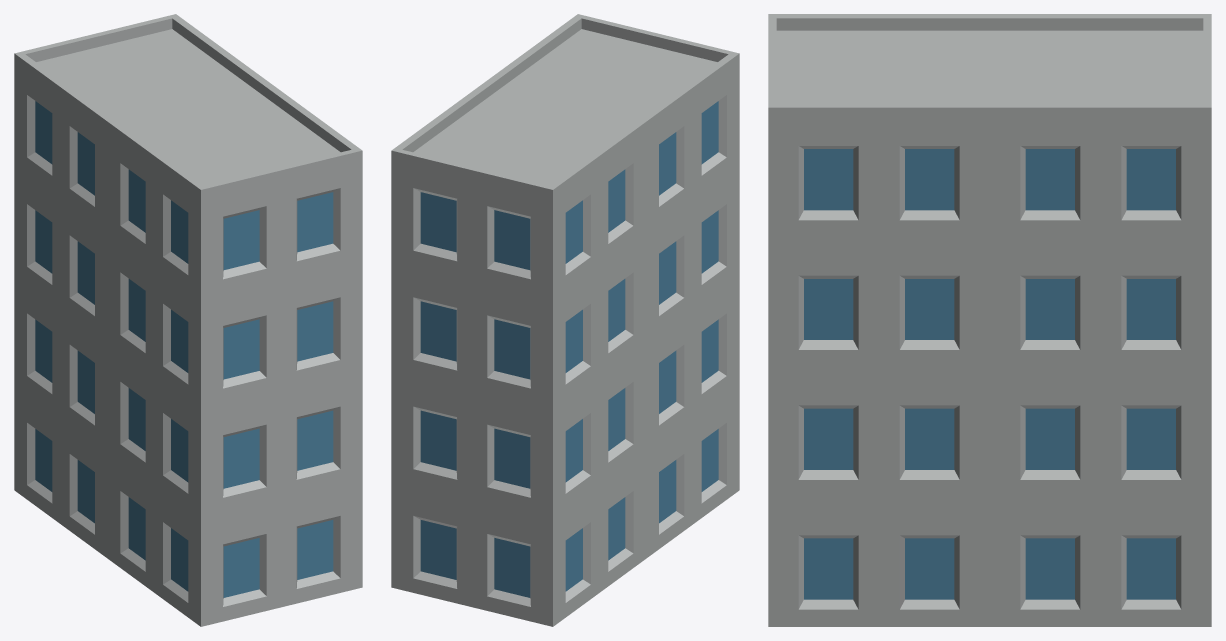
The model's file is Building three.fbx.
3 views of the same model, side by side, from view 1: azimuth 30°, elevation 25°; view 2: azimuth 150°, elevation 25°; view 3: azimuth 270°, elevation 25° (orthographic). The views are drawn at different scales.
Parts seen in each view (by area): view 1: polySurface43; view 2: polySurface43; view 3: polySurface43.
Boxes of the visible parts, x1,y1,x2,y2 form: polySurface43: (14, 14, 362, 626); polySurface43: (391, 14, 739, 626); polySurface43: (768, 14, 1211, 626).
Bounding box in the file's own units: 341 × 880 × 681.
